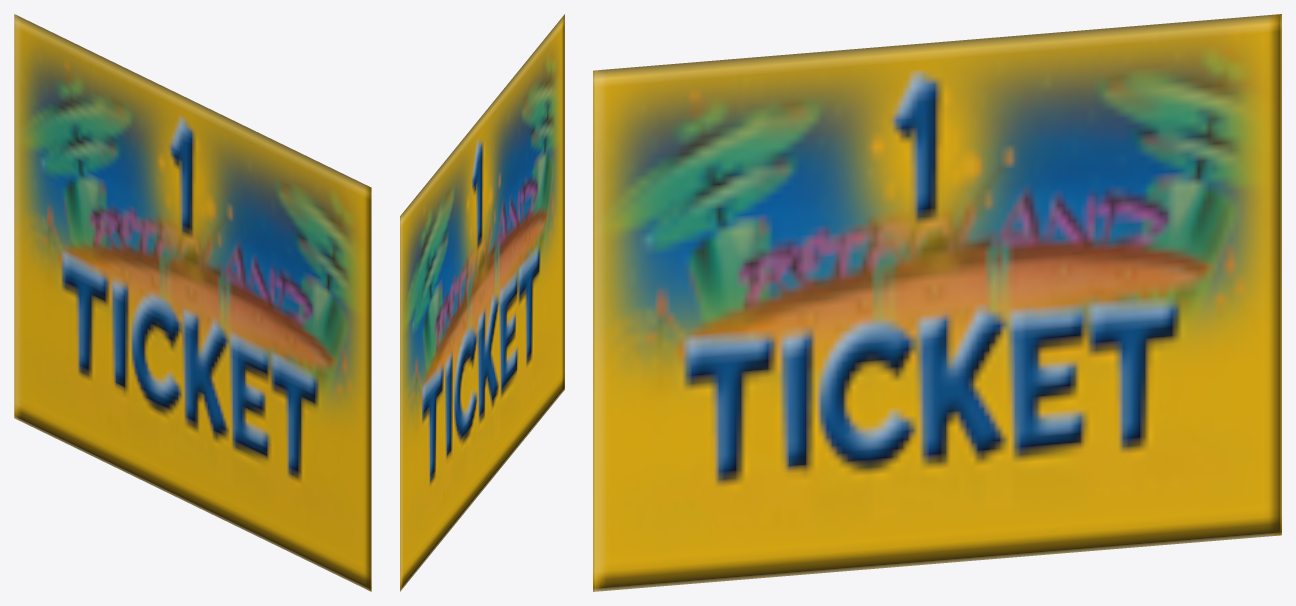
3 views of the same model, side by side, from view 1: azimuth 30°, elevation 25°; view 2: azimuth 150°, elevation 25°; view 3: azimuth 270°, elevation 25° (orthographic). The views are drawn at different scales.
Parts seen in each view (by area): view 1: Box15; view 2: Box15; view 3: Box15.
Boxes of the visible parts, left/top/right/bottom form: Box15: left=14, top=14, right=371, bottom=591; Box15: left=400, top=14, right=564, bottom=591; Box15: left=593, top=14, right=1281, bottom=591.
Bounding box in the file's own units: 11.88 × 51.05 × 61.13.
Materials: 1 (1 with a texture image).
